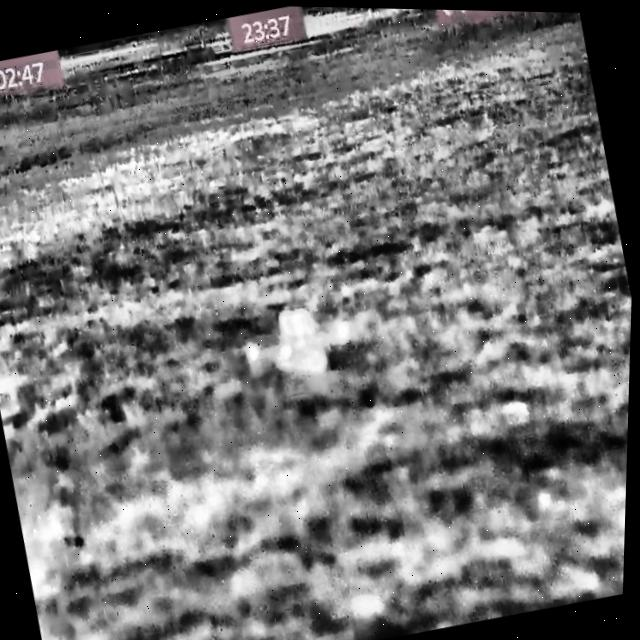drone: (240, 294, 362, 388)
